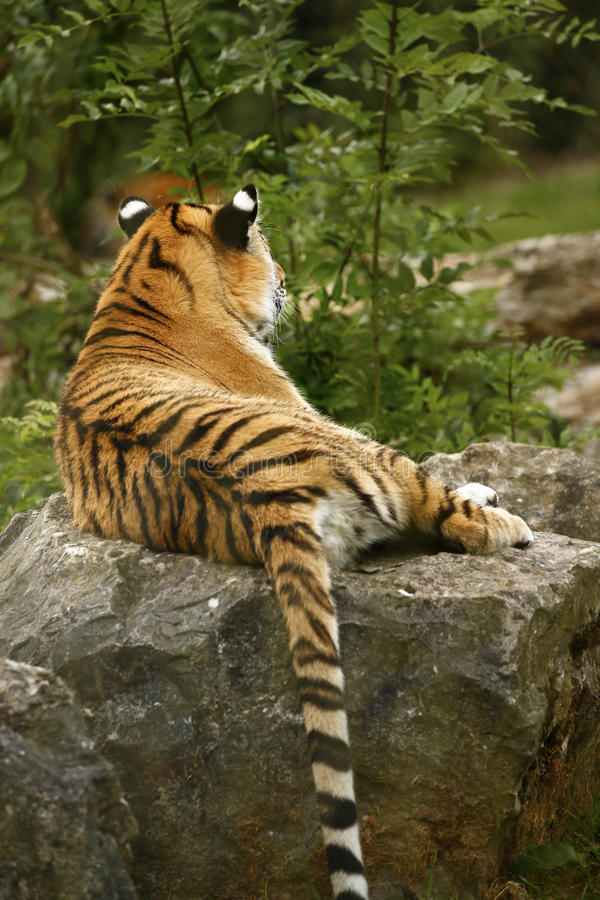tiger: (55, 179, 531, 900)
